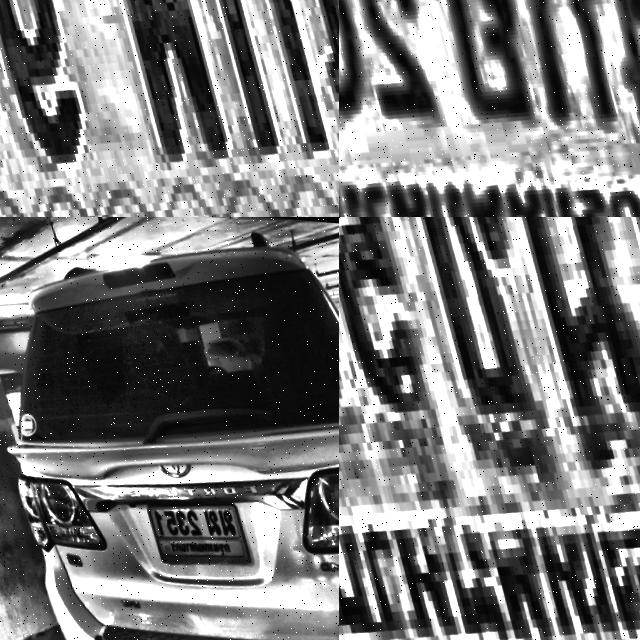license-plate: (339, 217, 640, 640), (0, 0, 339, 217), (339, 0, 640, 217), (134, 485, 245, 568)
